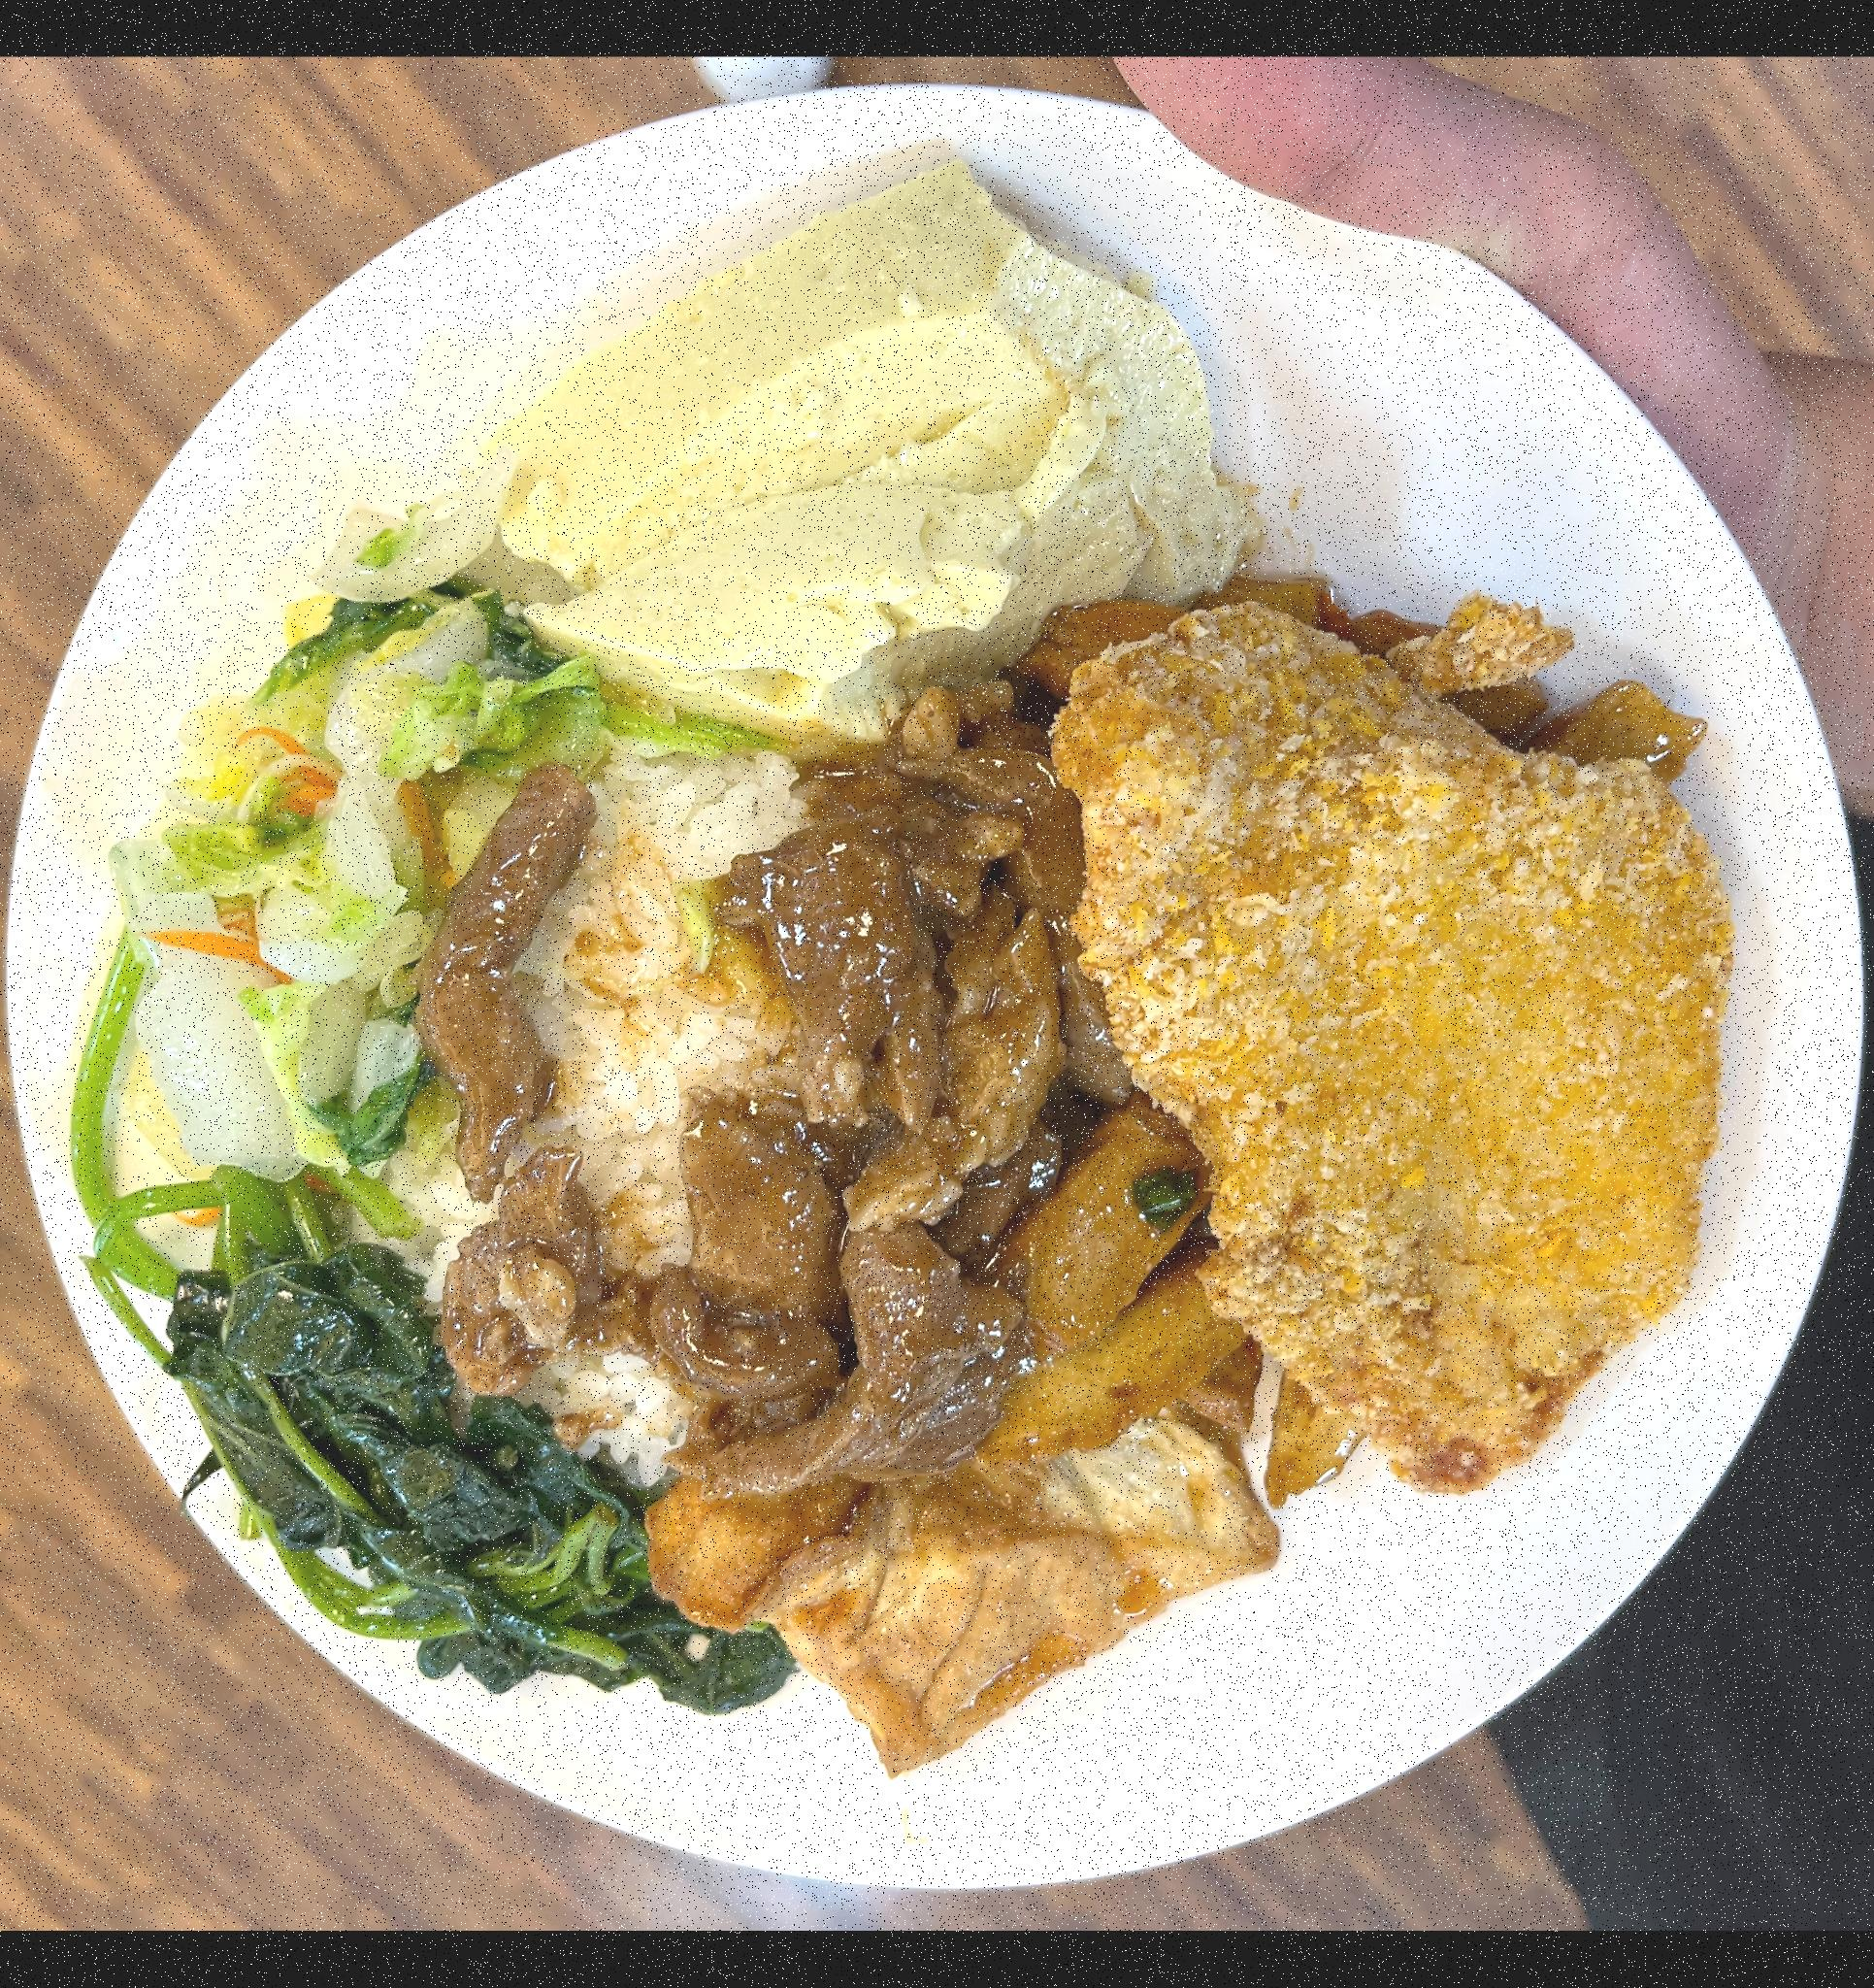chicken steak: (1048, 617, 1763, 1517)
plate: (0, 113, 1874, 1928)
shacha pork: (447, 636, 1096, 1496)
side dish: (472, 159, 1268, 731), (99, 1168, 777, 1771), (595, 1288, 1303, 1771), (69, 541, 565, 1225)
white rice: (407, 694, 882, 1498)
